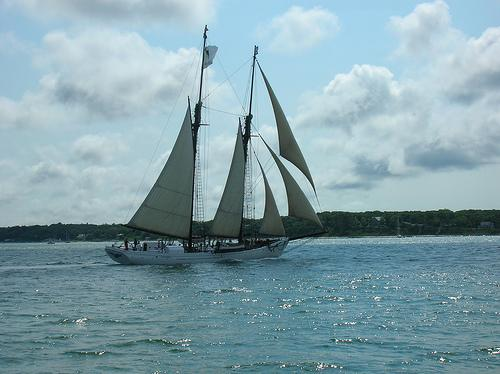Ship: (105, 27, 327, 267)
